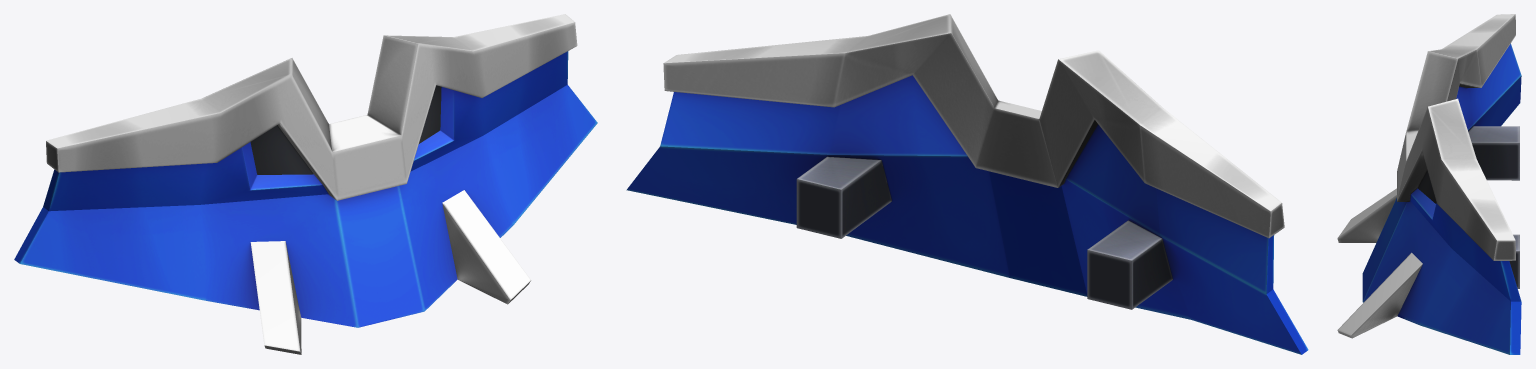
The model's file is front_shields_arena_3.fbx.
3 renders of one model, left to right at view 1: azimuth 30°, elevation 25°; view 2: azimuth 150°, elevation 25°; view 3: azimuth 270°, elevation 25°, orthographic. The views are drawn at different scales.
Visible parts, largest first — view 1: Cube.100; view 2: Cube.100; view 3: Cube.100.
Boxes of the visible parts, x1,y1,x2,y2 form: Cube.100: (14, 14, 597, 354); Cube.100: (626, 14, 1308, 354); Cube.100: (1337, 14, 1521, 354).
Size of the model in its own units: 218 by 84.35 by 67.19.
